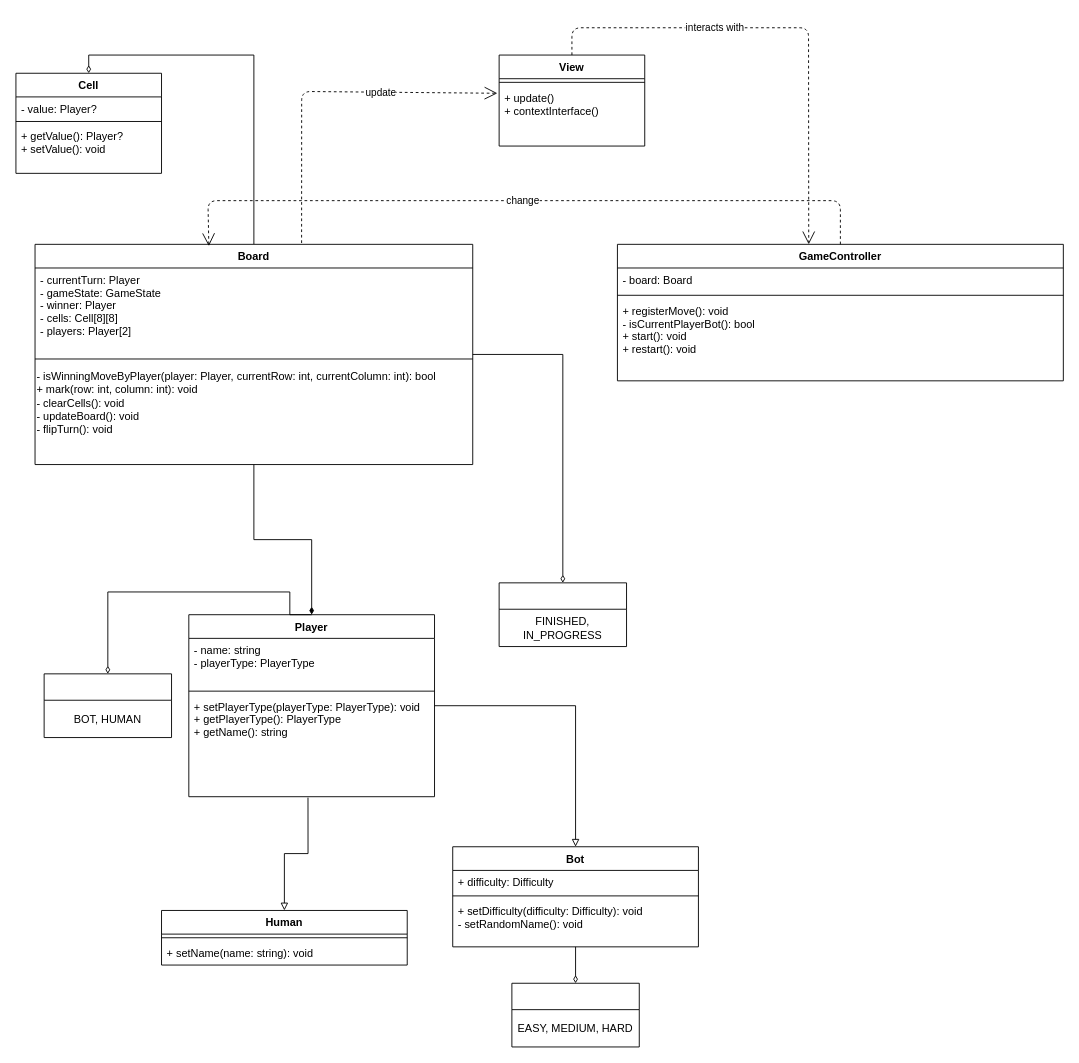
This 1079x1063 diagram has some shape labels left out. The shapes that lost their labels are listed below. From the top down, each one's box as (x1, y1, x2, y2) in pixels, then its label:
(498, 582, 627, 647): enum GameState
(43, 673, 172, 738): enum PlayerType
(511, 982, 639, 1047): enum Difficulty
